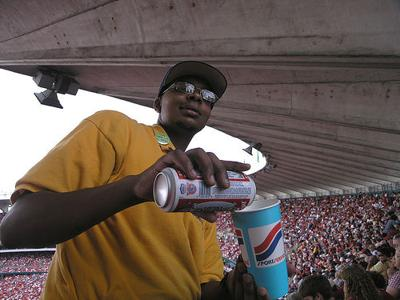person: (2, 62, 272, 299)
